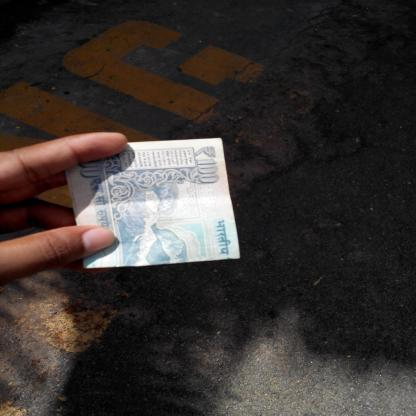Old100Back: (65, 137, 241, 269)
